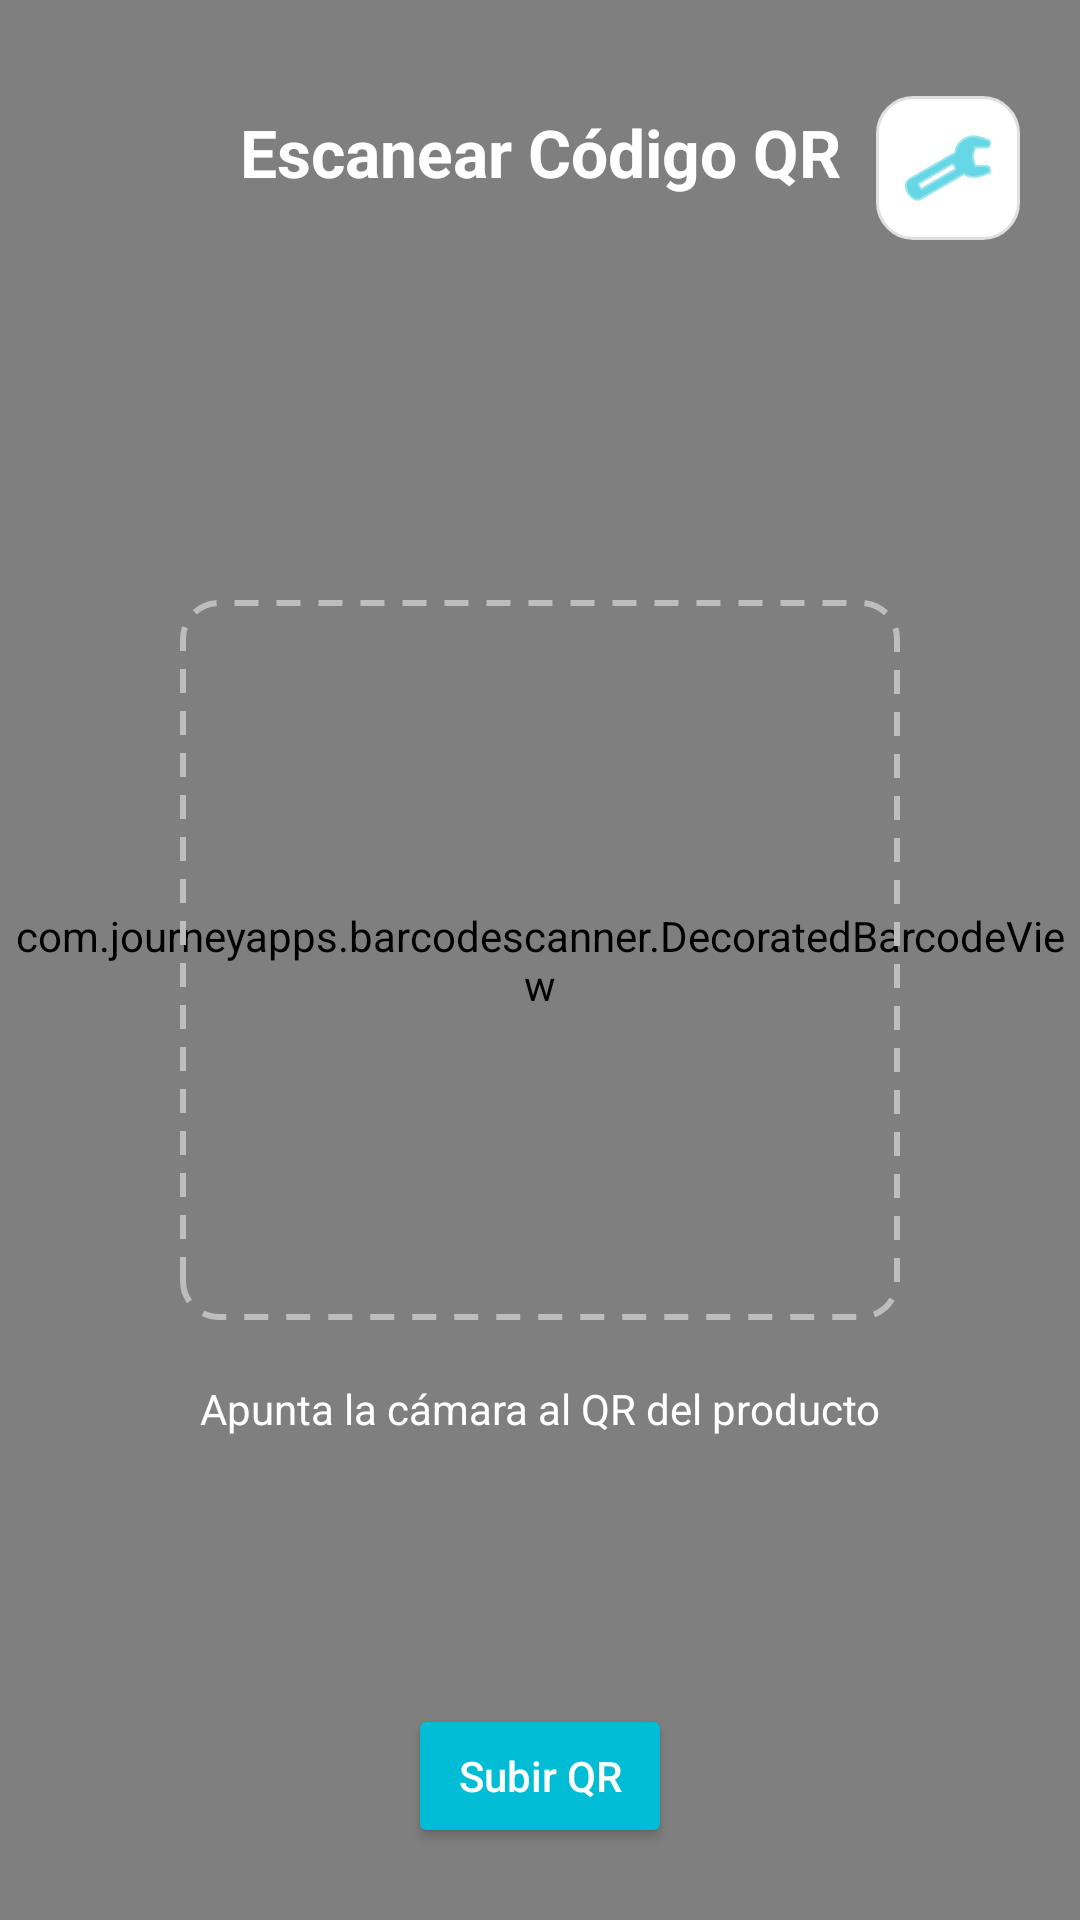

Where to tap for icons on this 1080 x 1920 app screen, as [x,y]:
manage: [948,168]
